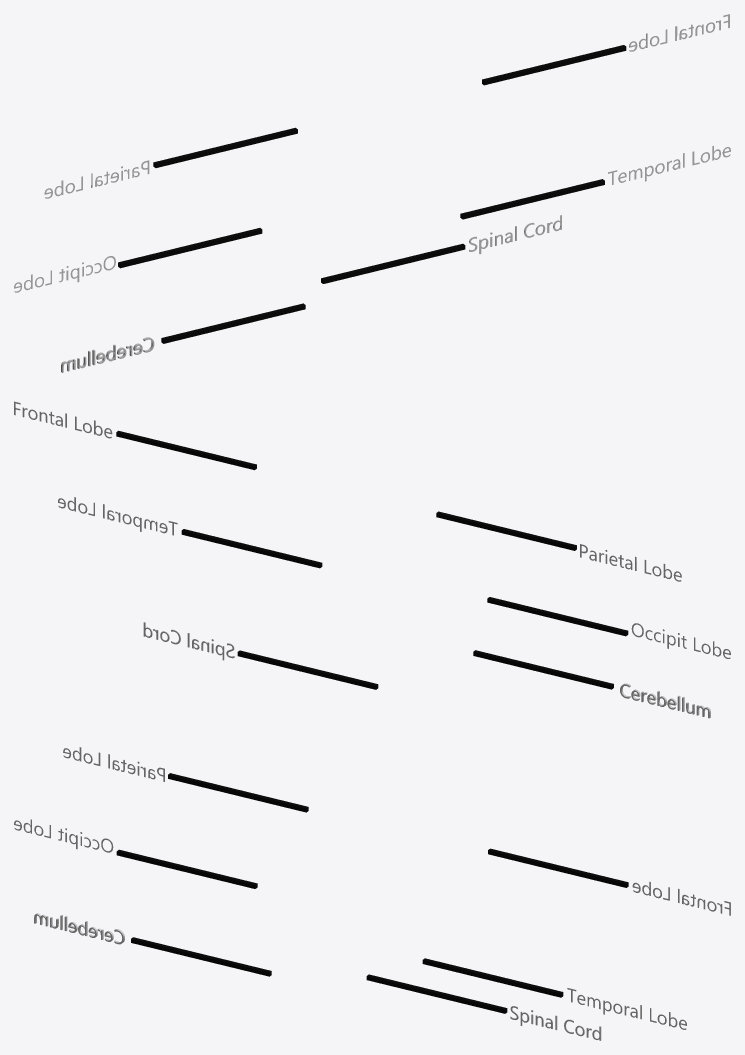
File: brain_labels.fbx
3 renders of one model, top to bottom at view 1: azimuth 30°, elevation 25°; view 2: azimuth 150°, elevation 25°; view 3: azimuth 330°, elevation 25°, orthographic. The views are drawn at different scales.
Visible parts, largest first — view 1: Node #1, Node #5, Node #2, Node #0, Node #3, Node #4, Node #8, Node #7, Node #10, Node #11; view 2: Node #5, Node #1, Node #3, Node #0, Node #4, Node #2, Node #8, Node #7, Node #11, Node #10, Node #6; view 3: Node #5, Node #1, Node #3, Node #2, Node #0, Node #4, Node #8, Node #7, Node #11, Node #10, Node #6, Node #9.
Boxes of the visible parts, x1,y1,x2,y2 form: Node #1: [460, 179, 604, 219]; Node #5: [321, 243, 465, 283]; Node #2: [161, 303, 305, 343]; Node #0: [482, 45, 626, 85]; Node #3: [118, 228, 262, 268]; Node #4: [153, 127, 297, 167]; Node #8: [61, 337, 154, 372]; Node #7: [608, 145, 730, 184]; Node #10: [44, 160, 149, 198]; Node #11: [469, 215, 561, 254]; Node #5: [237, 650, 378, 689]; Node #1: [181, 529, 322, 568]; Node #3: [487, 597, 628, 636]; Node #0: [116, 430, 256, 470]; Node #4: [436, 511, 576, 550]; Node #2: [473, 650, 613, 689]; Node #8: [620, 683, 710, 718]; Node #7: [58, 497, 177, 535]; Node #11: [143, 622, 234, 660]; Node #10: [580, 544, 681, 581]; Node #6: [14, 401, 112, 438]; Node #5: [366, 974, 507, 1013]; Node #1: [422, 958, 563, 997]; Node #3: [116, 849, 257, 888]; Node #2: [131, 937, 271, 976]; Node #0: [488, 848, 628, 887]; Node #4: [168, 773, 308, 812]; Node #8: [34, 913, 124, 944]; Node #7: [567, 988, 686, 1029]; Node #11: [510, 1006, 601, 1040]; Node #10: [63, 747, 164, 781]; Node #6: [632, 881, 730, 915]; Node #9: [14, 819, 113, 852].
Size of the model in its own units: 1.24 by 0.3209 by 0.1281.
1 material, 1 textured.
